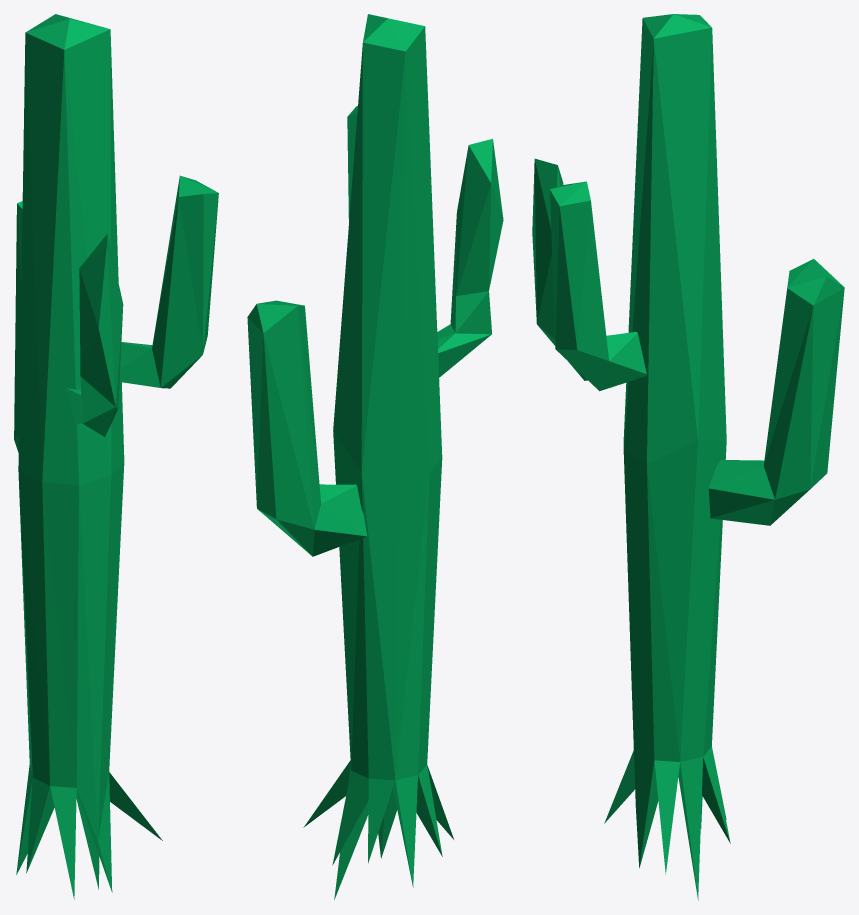
Rendered from SeguaroCactusLarge3_LOD2.fbx.
3 views of the same model, side by side, from view 1: azimuth 30°, elevation 25°; view 2: azimuth 150°, elevation 25°; view 3: azimuth 270°, elevation 25° (orthographic). The views are drawn at different scales.
Parts seen in each view (by area): view 1: SeguaroCactusLarge3_LOD2; view 2: SeguaroCactusLarge3_LOD2; view 3: SeguaroCactusLarge3_LOD2.
Boxes of the visible parts, box(x1,y1,x2,y2) form: SeguaroCactusLarge3_LOD2: box(14, 14, 218, 899); SeguaroCactusLarge3_LOD2: box(247, 14, 503, 899); SeguaroCactusLarge3_LOD2: box(532, 14, 844, 900).
Bounding box in the file's own units: 204 × 625 × 103.
